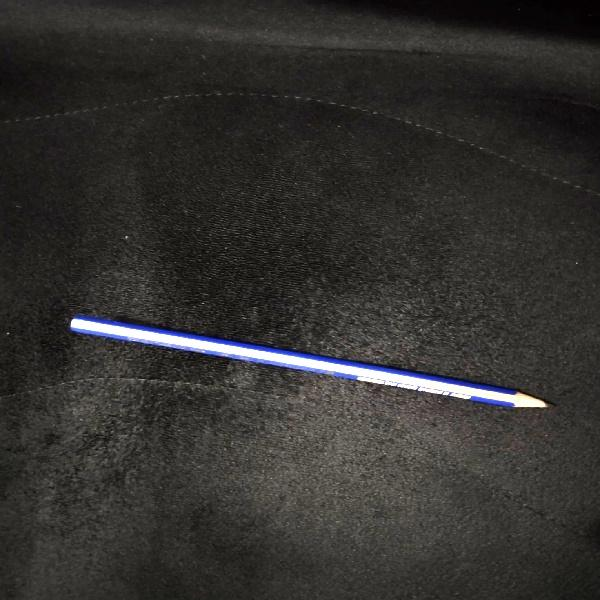pencil: (71, 316, 548, 407)
